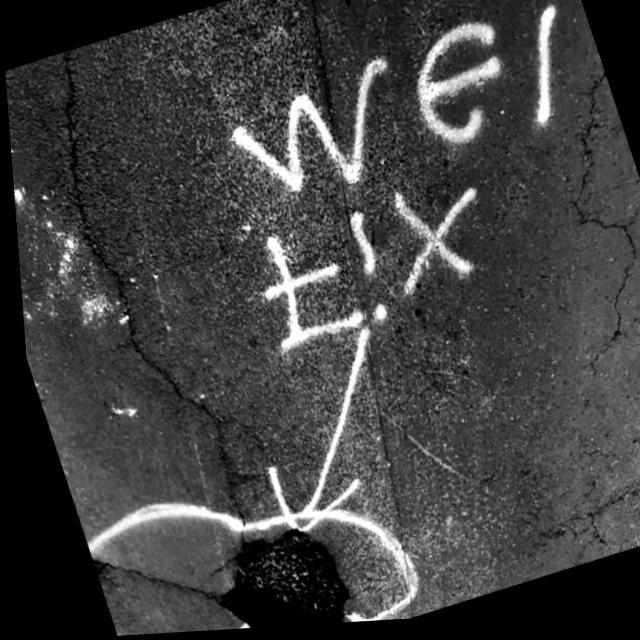pathole: (172, 413, 479, 632)
